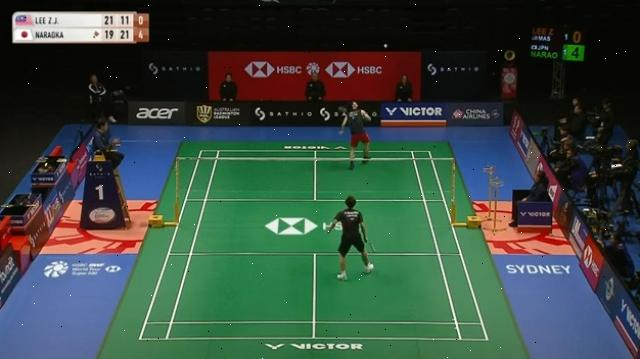Shuttlecock: (380, 41, 390, 52)
